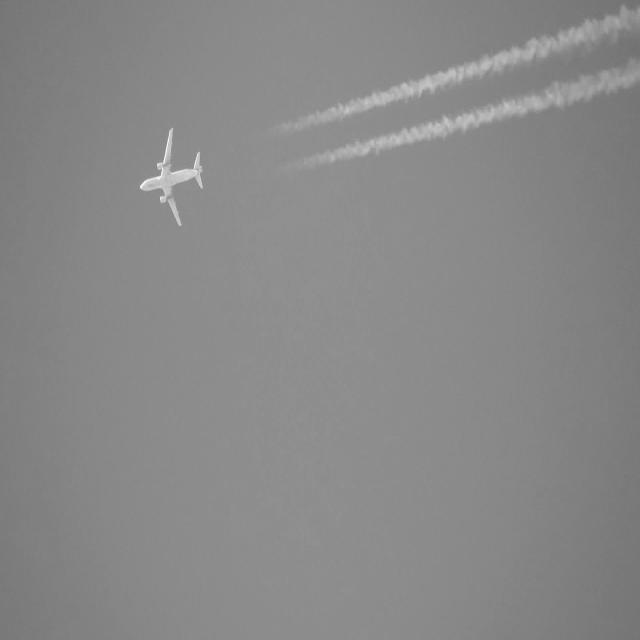aeroplane: (140, 126, 208, 230)
